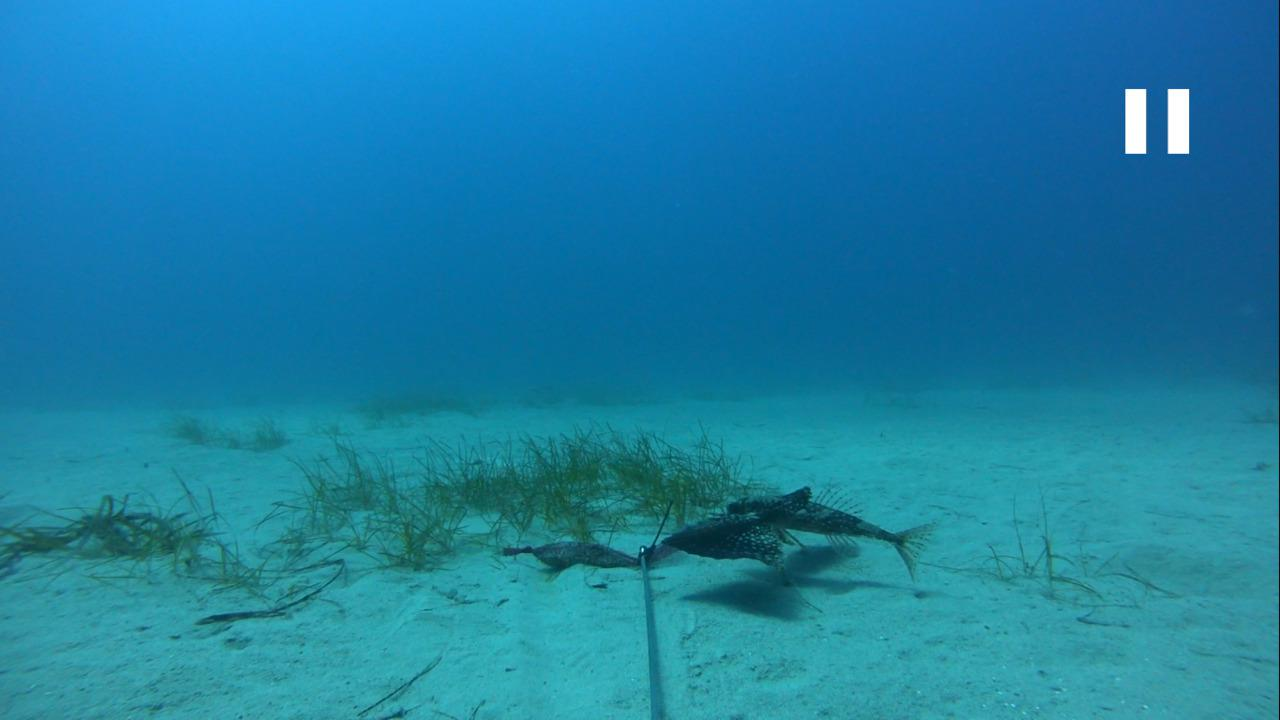dactylopterus: (660, 485, 938, 587)
